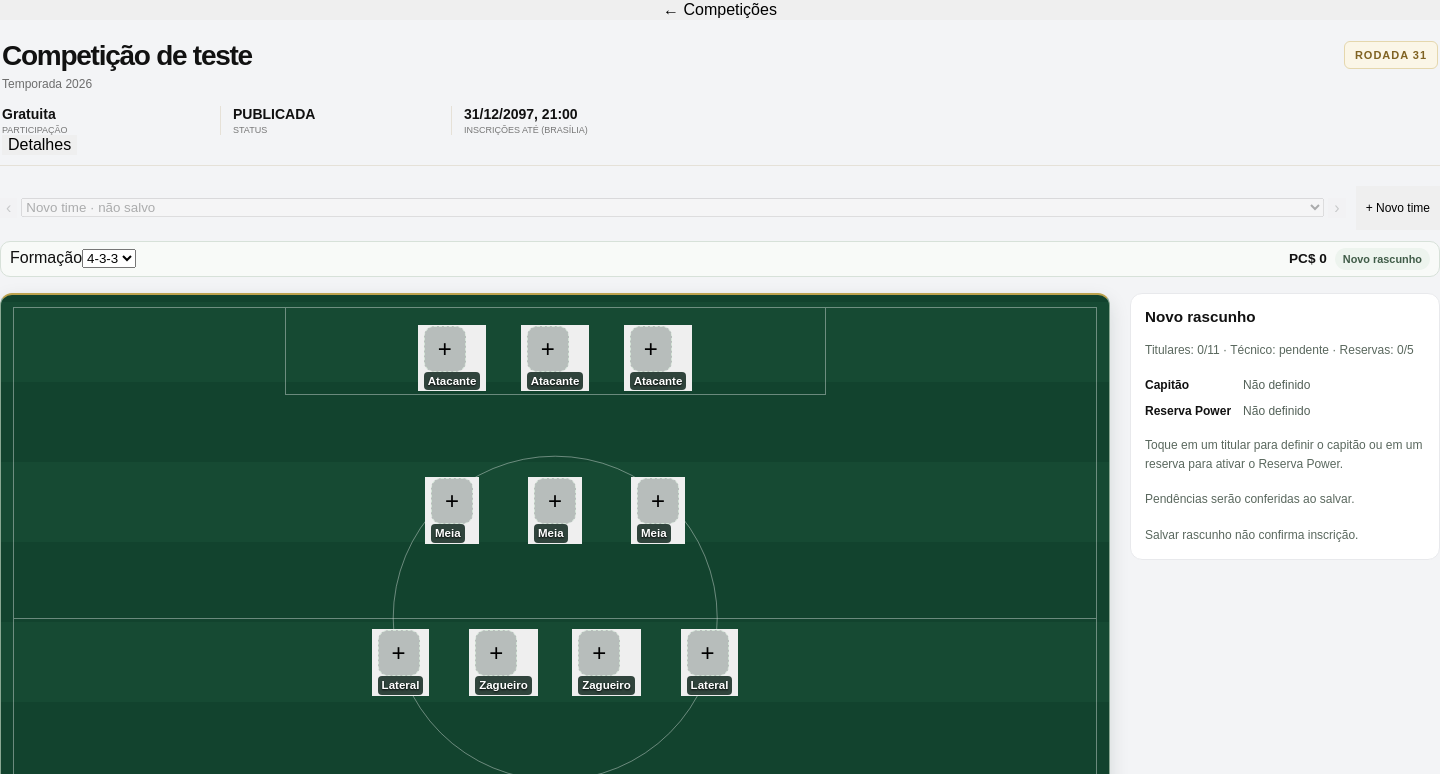
Test: Pitch and formations › keeps the competition details collapsed and places lineup controls before the pitch
Check: the heading "Confrontos e horários" is not shown
Step 1. Click the button "Detalhes" → (40, 145), box [2, 135, 77, 155]
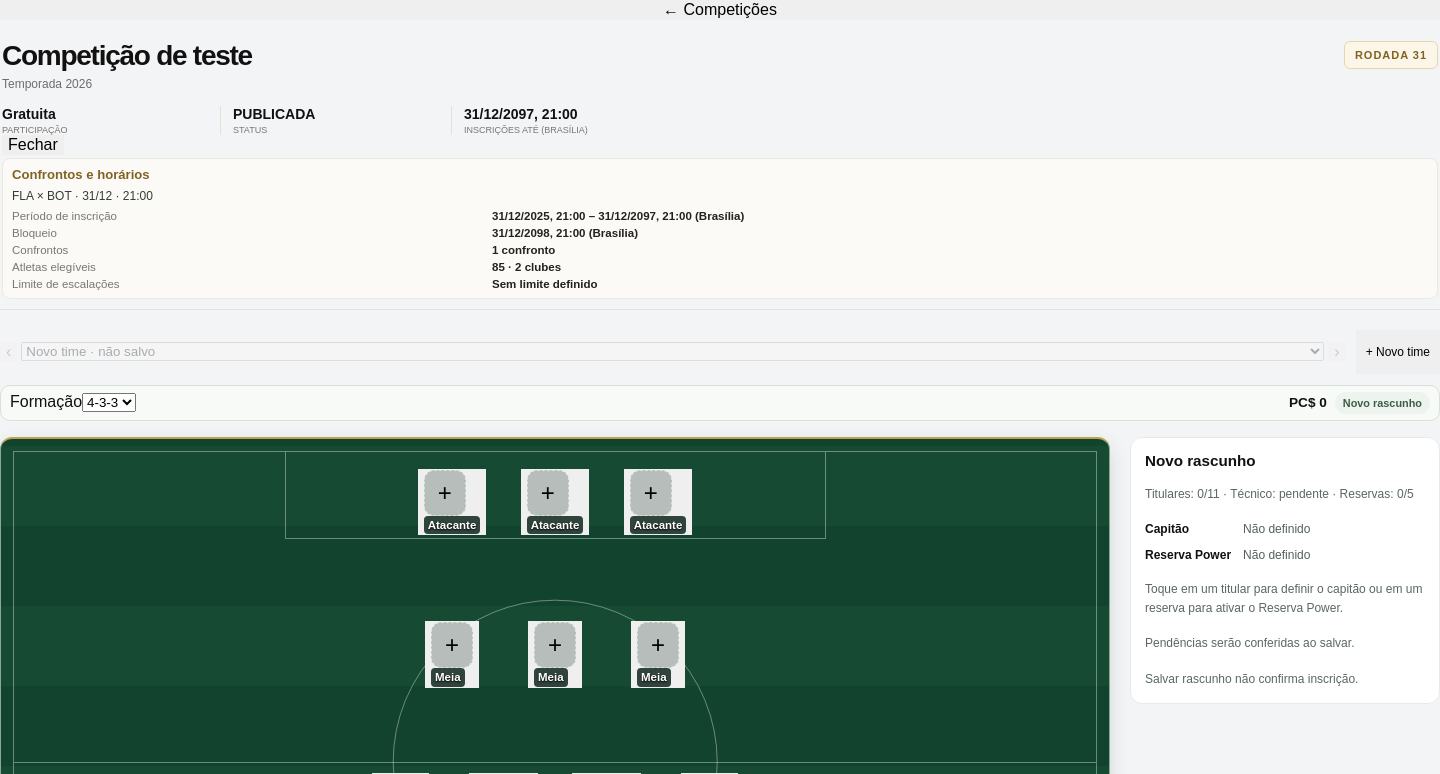
Check: the heading "Confrontos e horários" is shown, box [12, 167, 150, 182]
Check: the text "1 confronto" is shown, box [492, 244, 555, 256]
Check: the text "85 · 2 clubes" is shown, box [492, 261, 561, 273]
